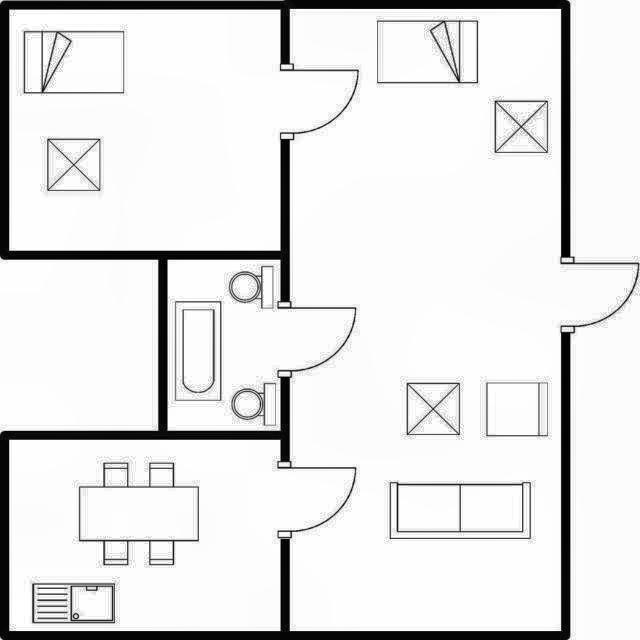room: (290, 9, 561, 631), (9, 10, 281, 251), (9, 440, 281, 631), (167, 260, 281, 431)
